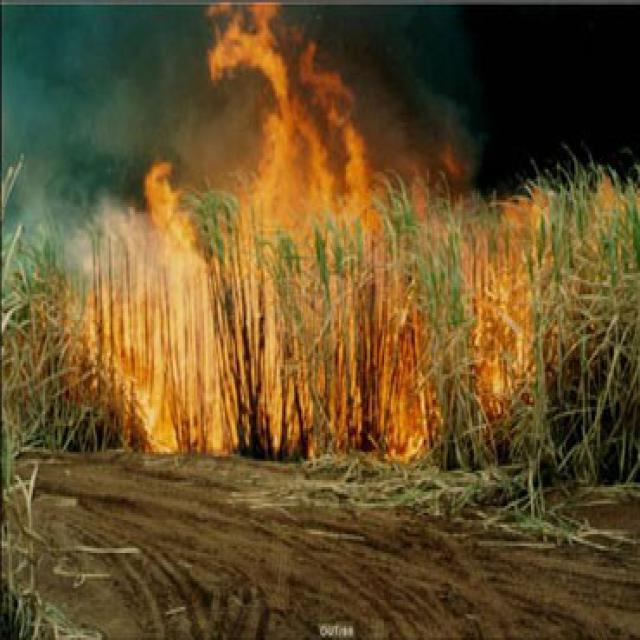Fire: (41, 172, 248, 454), (320, 221, 550, 471), (197, 0, 393, 205)
